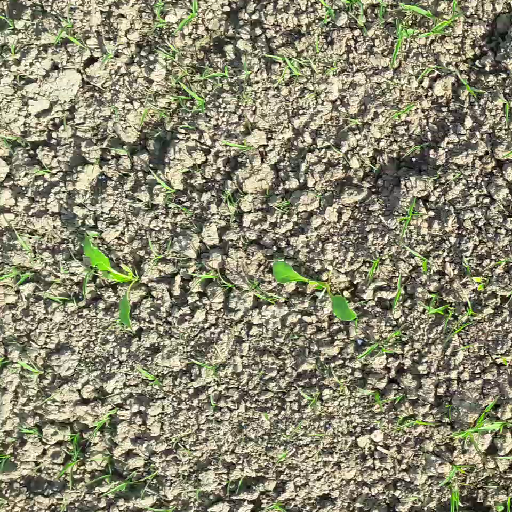sugarbeet: (271, 258, 364, 327), (82, 233, 144, 336)
weed: (1, 1, 512, 511)
